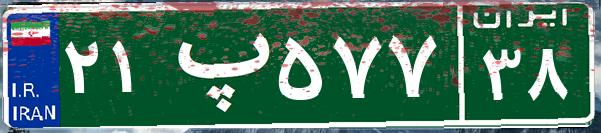1: (110, 28, 158, 105)
2: (57, 26, 110, 107)
3: (475, 38, 525, 113)
5: (273, 28, 330, 110)
7: (385, 28, 445, 110), (330, 28, 385, 110)
8: (525, 38, 570, 115)
پ: (158, 15, 273, 115)
